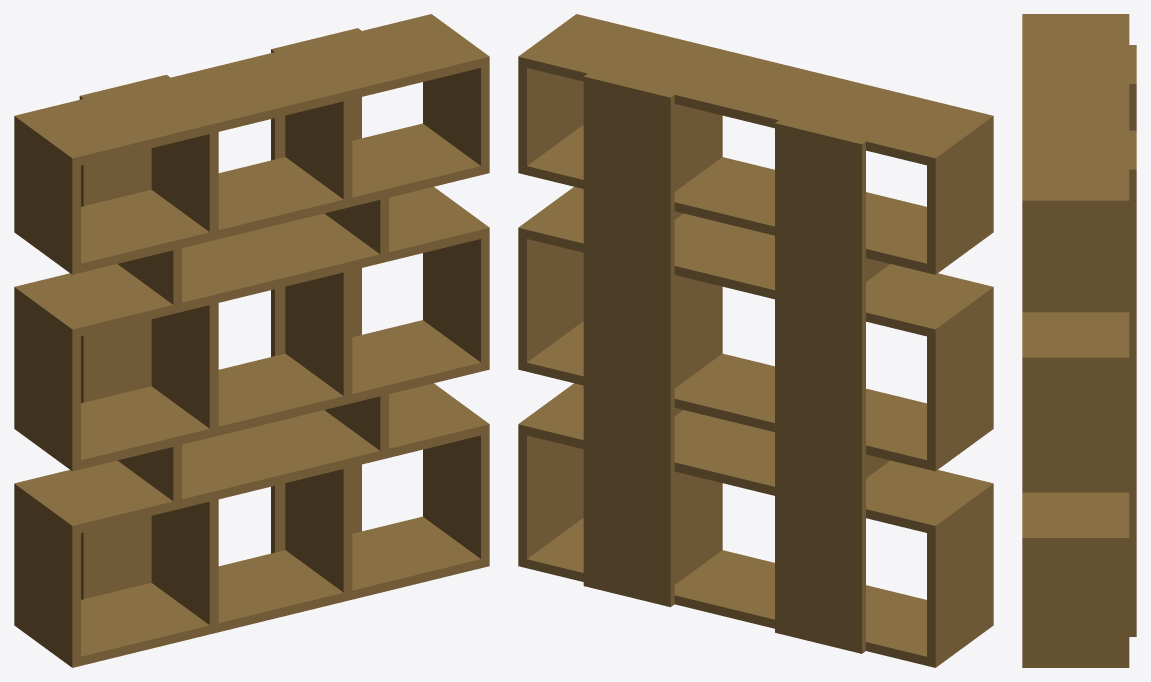
3 views of the same model, side by side, from view 1: azimuth 30°, elevation 25°; view 2: azimuth 150°, elevation 25°; view 3: azimuth 270°, elevation 25° (orthographic). The views are drawn at different scales.
Parts seen in each view (by area): view 1: Body; view 2: Body; view 3: Body.
Part boxes in pixels (<box>): Body: <box>14,14,489,667</box>; Body: <box>518,14,993,667</box>; Body: <box>1022,14,1136,667</box>.
Size of the model in its own units: 1.2 by 1.4 by 0.31.
